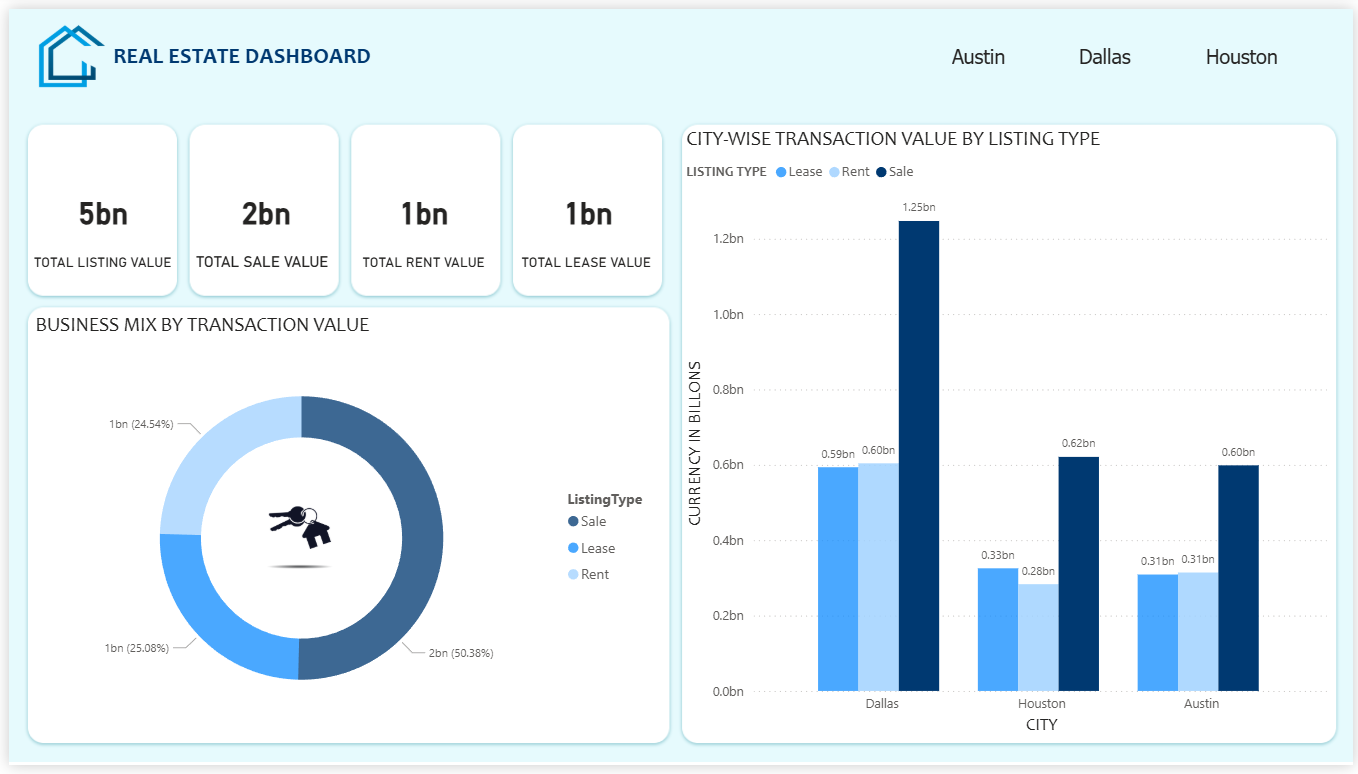

The dashboard page shown, as its layout file describes it:
{"tool":"powerbi","page":{"name":"TRANSACTION VALUE AND BUSINESS MIX","canvas":[1280,720],"ordinal":6},"visuals":[{"type":"donutChart","title":"BUSINESS MIX BY TRANSACTION VALUE","fields":{"Category":["Properties.ListingType"],"Y":["Measure_Table.Total_Listing_Value"]},"box":[20.5,289.1,604.6,406.5],"z":0},{"type":"card","title":"AVG . LISTED PRIZE","fields":{"Values":["Measure_Table.Total_Listing_Value"]},"box":[20.5,111.5,137.9,161.4],"z":1000},{"type":"clusteredColumnChart","title":"CITY-WISE TRANSACTION VALUE BY LISTING TYPE","fields":{"Category":["Properties.City"],"Series":["Properties.ListingType"],"Y":["Measure_Table.Total_Listing_Value"]},"box":[639.8,111.5,622.2,584],"z":2000},{"type":"card","title":"AVG . LISTED PRIZE","fields":{"Values":["Measure_Table.Total_Sale_Value"]},"box":[173.8,111.5,140.8,161.5],"z":3000},{"type":"card","title":"AVG . LISTED PRIZE","fields":{"Values":["Measure_Table.Total_Rent_Value"]},"box":[322.8,111.5,143.8,161.4],"z":4000},{"type":"card","title":"AVG . LISTED PRIZE","fields":{"Values":["Measure_Table.Total_Lease_Value"]},"box":[476.9,111.5,148.2,161.4],"z":5000},{"type":"advancedSlicerVisual","fields":{"Values":["Properties.City"]},"box":[880,10,370,70],"z":6000},{"type":"image","box":[25,10,68.3,70],"z":7000},{"type":"textbox","box":[18.5,226.2,150,32.3],"z":8000},{"type":"textbox","box":[173.1,226.2,143.1,32.3],"z":9000},{"type":"textbox","box":[330.8,226.2,136.2,32.3],"z":10000},{"type":"textbox","box":[483.1,226.2,136.2,32.3],"z":11000},{"type":"image","box":[224.5,456.4,105.7,96.8],"z":12000},{"type":"textbox","box":[93.8,25,281.2,39.1],"z":13000}]}

Visuals, with their boxes in screenshot pixels (x1, y1, x2, y2), scaled from the page's 1280x720 canvas onto the 1358x774 screenshot:
"BUSINESS MIX BY TRANSACTION VALUE" donutChart: (left=22, top=311, right=663, bottom=748)
"AVG . LISTED PRIZE" card: (left=22, top=120, right=168, bottom=293)
"CITY-WISE TRANSACTION VALUE BY LISTING TYPE" clusteredColumnChart: (left=679, top=120, right=1339, bottom=748)
"AVG . LISTED PRIZE" card: (left=184, top=120, right=334, bottom=293)
"AVG . LISTED PRIZE" card: (left=342, top=120, right=495, bottom=293)
"AVG . LISTED PRIZE" card: (left=506, top=120, right=663, bottom=293)
advancedSlicerVisual - Properties.City: (left=934, top=11, right=1326, bottom=86)
image: (left=27, top=11, right=99, bottom=86)
textbox: (left=20, top=243, right=179, bottom=278)
textbox: (left=184, top=243, right=335, bottom=278)
textbox: (left=351, top=243, right=495, bottom=278)
textbox: (left=513, top=243, right=657, bottom=278)
image: (left=238, top=491, right=350, bottom=595)
textbox: (left=100, top=27, right=398, bottom=69)
